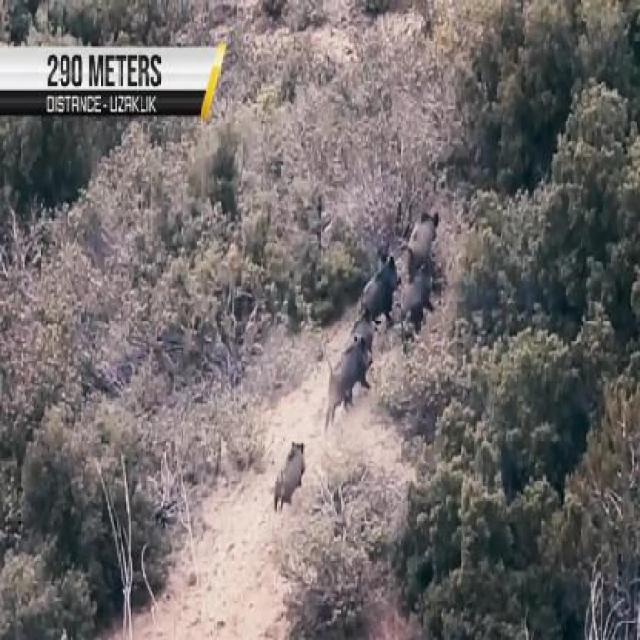pig: (398, 263, 466, 332), (331, 337, 372, 415), (402, 194, 444, 270), (363, 226, 393, 331), (272, 436, 308, 506), (346, 299, 379, 343)
